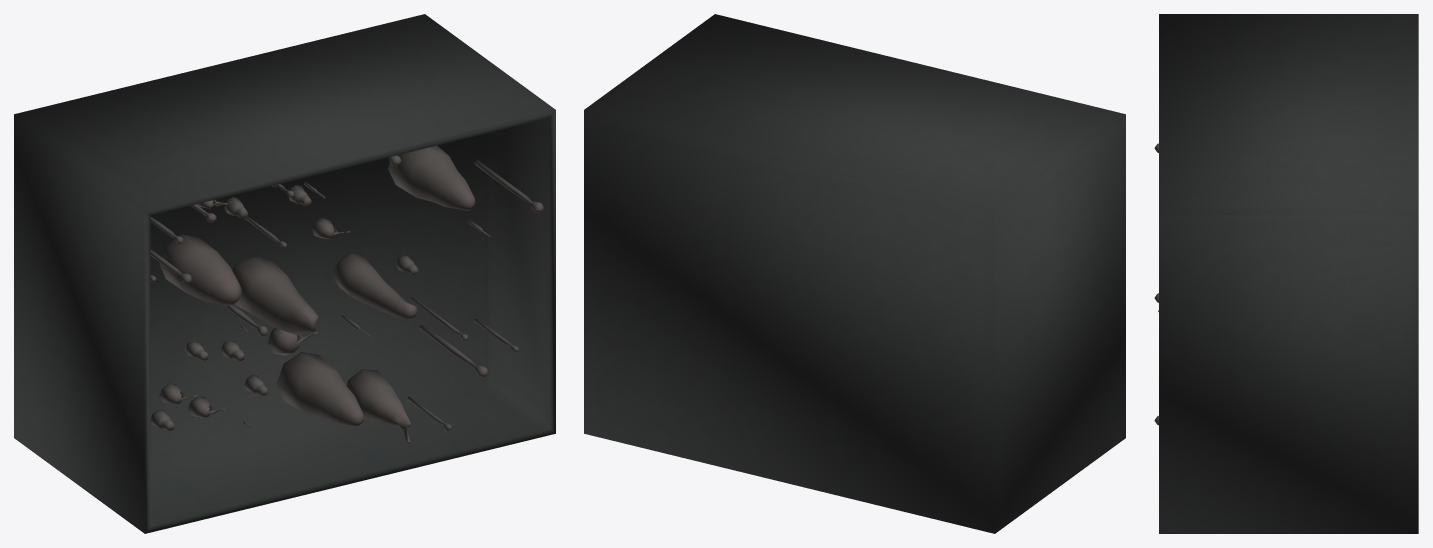
File: 01a07fad-89bb-77ac-a6b3-2bd822f91d08.glb
3 views of the same model, side by side, from view 1: azimuth 30°, elevation 25°; view 2: azimuth 150°, elevation 25°; view 3: azimuth 270°, elevation 25° (orthographic).
Visible parts, largest first — view 1: tripo_node_966bf467-7edd-474f-a86d-b2b4b670d663; view 2: tripo_node_966bf467-7edd-474f-a86d-b2b4b670d663; view 3: tripo_node_966bf467-7edd-474f-a86d-b2b4b670d663.
Boxes of the visible parts, left/top/right/bottom form: tripo_node_966bf467-7edd-474f-a86d-b2b4b670d663: left=14, top=14, right=555, bottom=533; tripo_node_966bf467-7edd-474f-a86d-b2b4b670d663: left=584, top=14, right=1125, bottom=533; tripo_node_966bf467-7edd-474f-a86d-b2b4b670d663: left=1154, top=14, right=1418, bottom=533.
Size of the model in its own units: 0.998 by 0.752 by 0.5605.
Materials: 1 (1 with a texture image).
